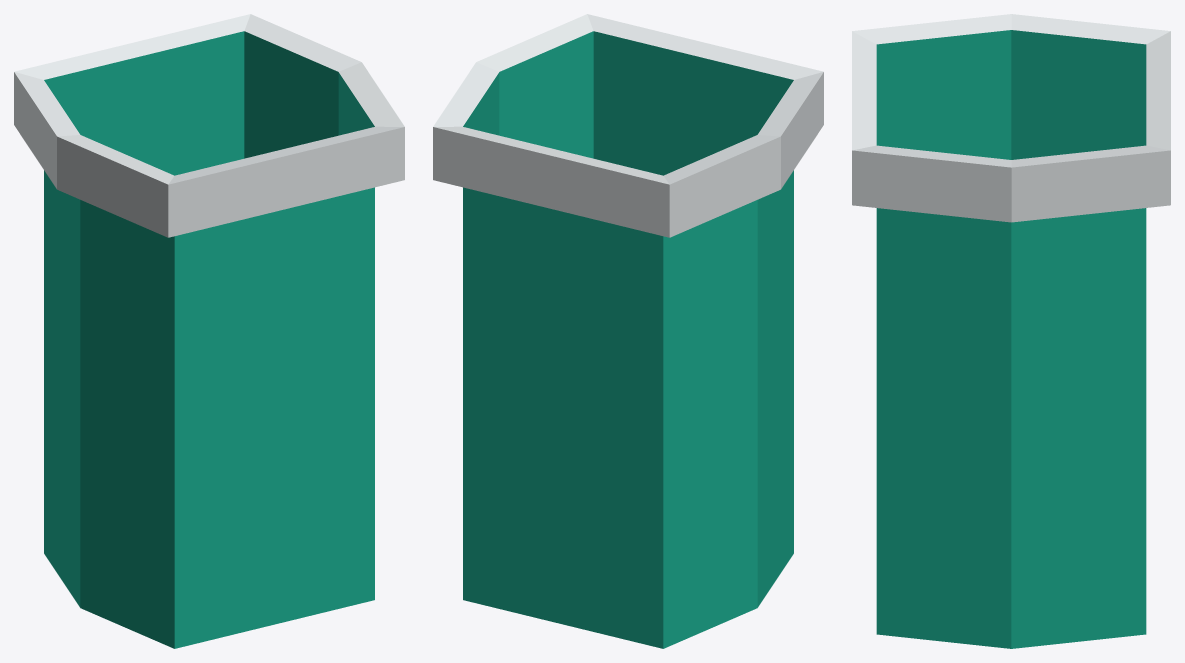
File: Bin.fbx
The picture shows the model from 3 angles, left to right: view 1: azimuth 30°, elevation 25°; view 2: azimuth 150°, elevation 25°; view 3: azimuth 270°, elevation 25°; orthographic projection. The views are drawn at different scales.
Parts seen in each view (by area): view 1: Cube; view 2: Cube; view 3: Cube.
Part boxes in pixels (bbox=[...]): Cube: bbox=[14, 14, 404, 648]; Cube: bbox=[433, 14, 823, 648]; Cube: bbox=[852, 14, 1170, 648].
Size of the model in its own units: 72.64 by 109 by 63.71.
